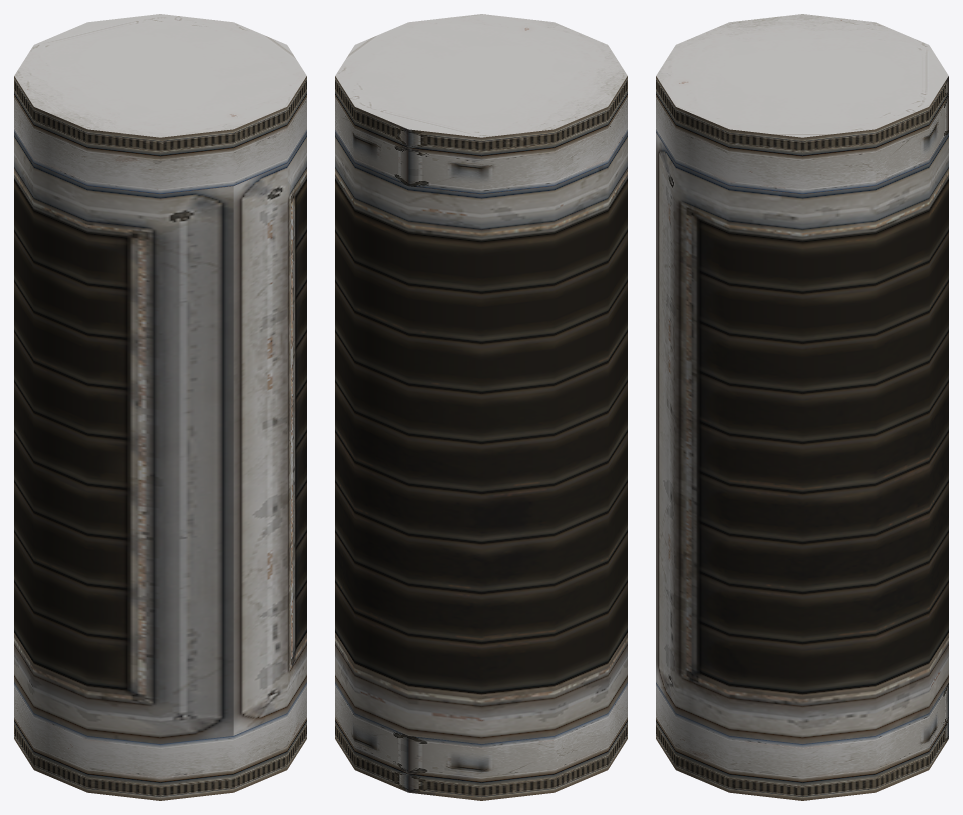
Rendered from scifi_pipe_large_4.FBX.
3 views of the same model, side by side, from view 1: azimuth 30°, elevation 25°; view 2: azimuth 150°, elevation 25°; view 3: azimuth 270°, elevation 25° (orthographic).
Visible parts, largest first — view 1: Cylinder010; view 2: Cylinder010; view 3: Cylinder010.
Part boxes in pixels (x1,y1,x2,y2): Cylinder010: [14, 14, 306, 800]; Cylinder010: [335, 14, 627, 800]; Cylinder010: [656, 14, 948, 800].
Bounding box in the file's own units: 102 × 254 × 102.
